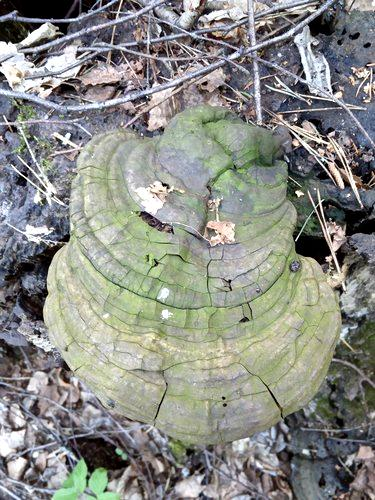Ganoderma - Fruit Body: (49, 111, 342, 449)
